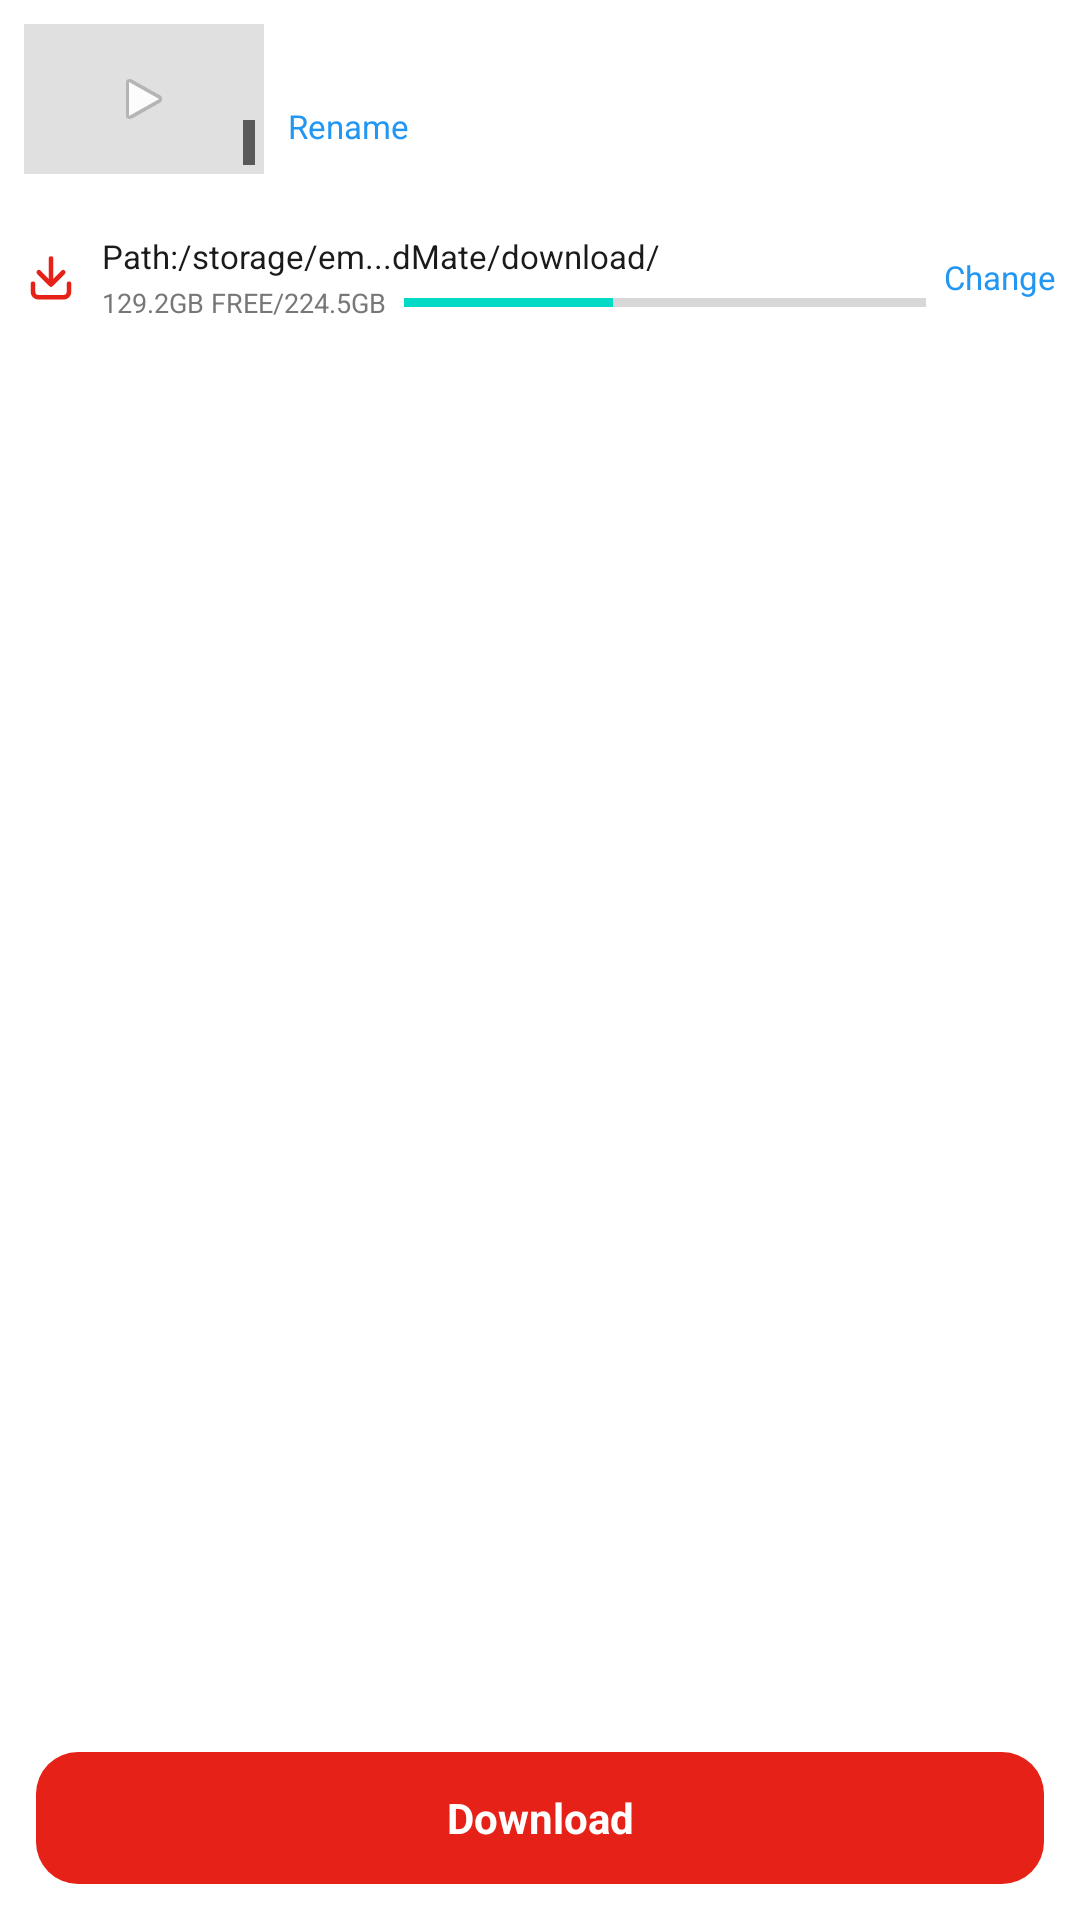

Named icons in this screenshot (1080px×1920px) and their bounding boxes, (x1, y1, x2, y2):
play: (126, 79, 162, 119)
